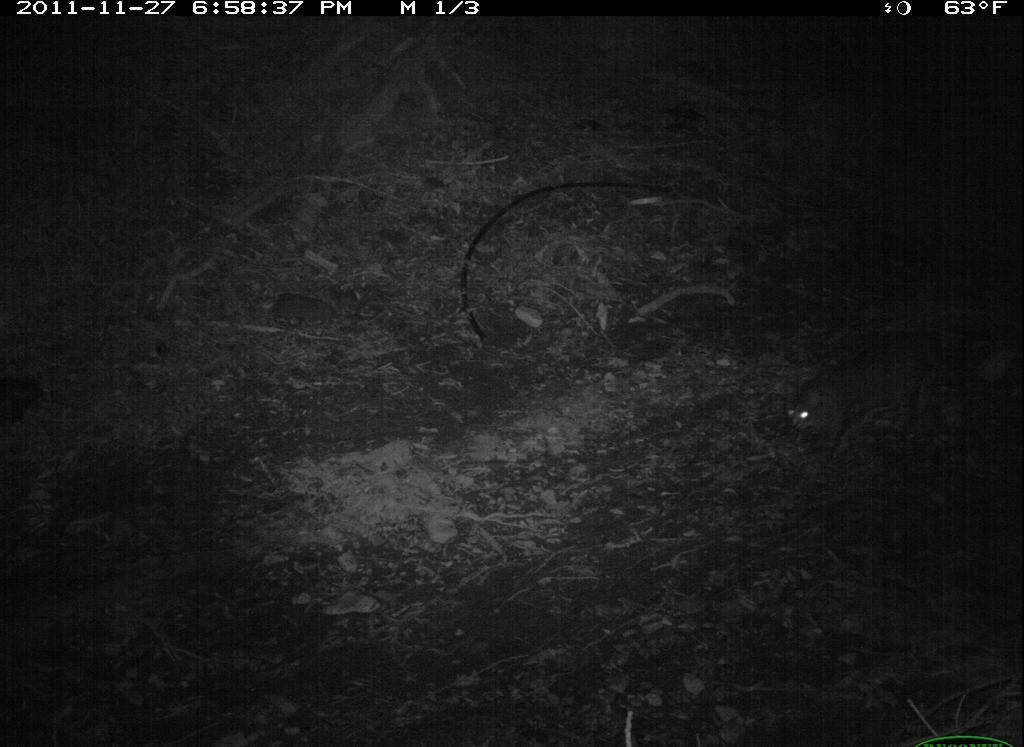cat: (779, 322, 962, 455)
